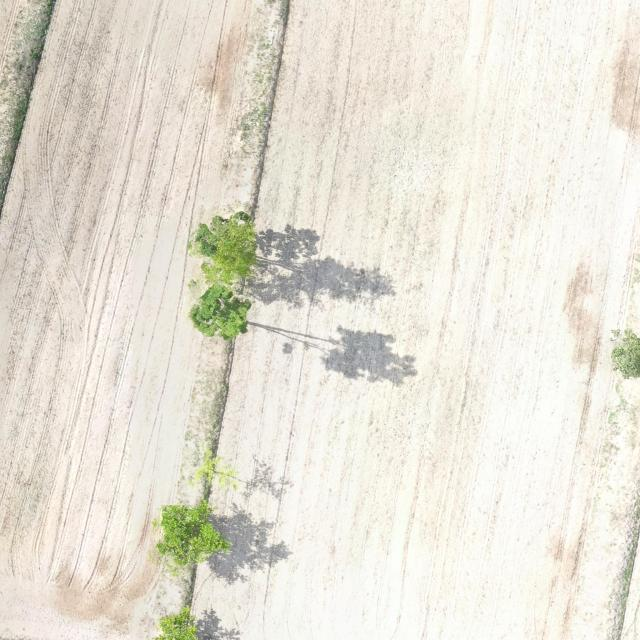Tree: (185, 210, 262, 286), (154, 499, 228, 564), (188, 284, 254, 342), (190, 448, 240, 492), (154, 604, 202, 640), (609, 328, 640, 382)
